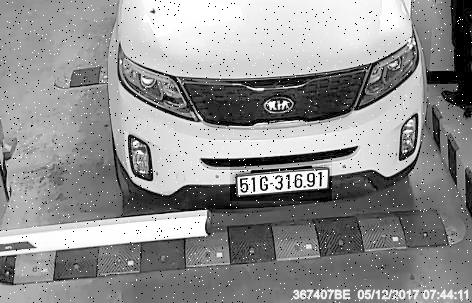License-plate: (231, 162, 333, 202)
